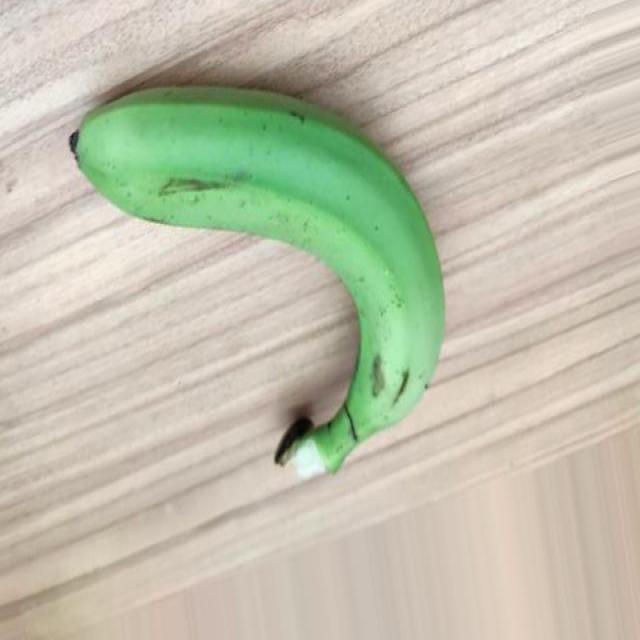Unripe: (67, 84, 445, 482)
